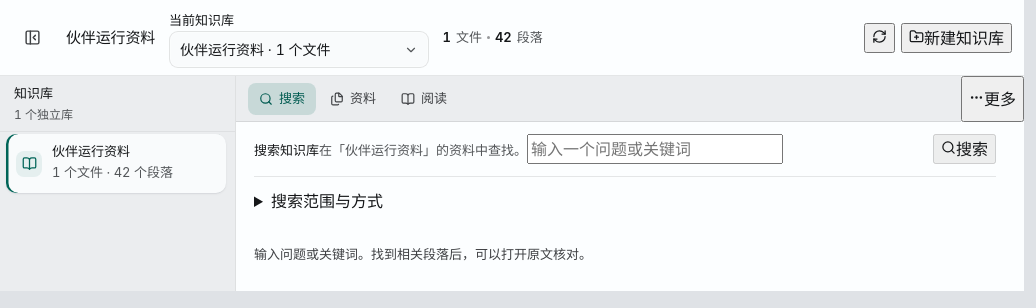
it: document knowledge library › collapses the actual App library index while retaining the current search draft and a library selector
Type "保留检索草稿" into the field labelled "搜索知识库" at point(655, 149), box [527,134,783,164]
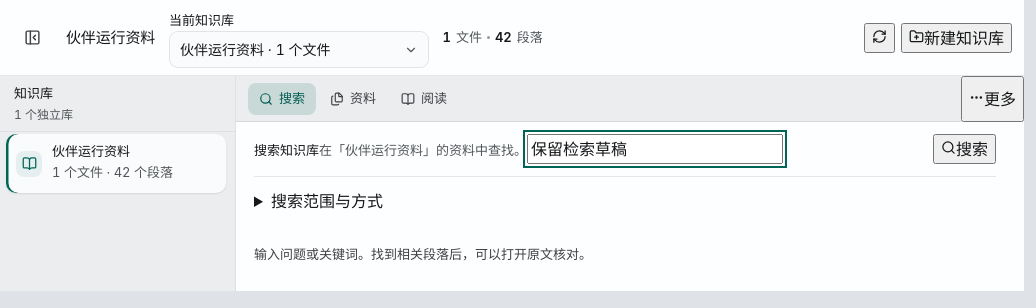
Click the button named "收起知识库目录" at point(32, 38), box [12,18,52,58]
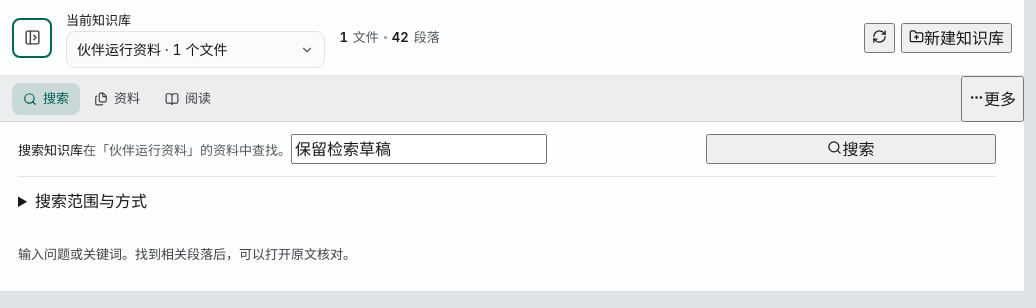
Check: the dropdown named "当前知识库" is shown, box [66,31,325,68]
Check: the element "文档知识库" is gone
Click the button named "展开知识库目录" at point(32, 38), box [12,18,52,58]
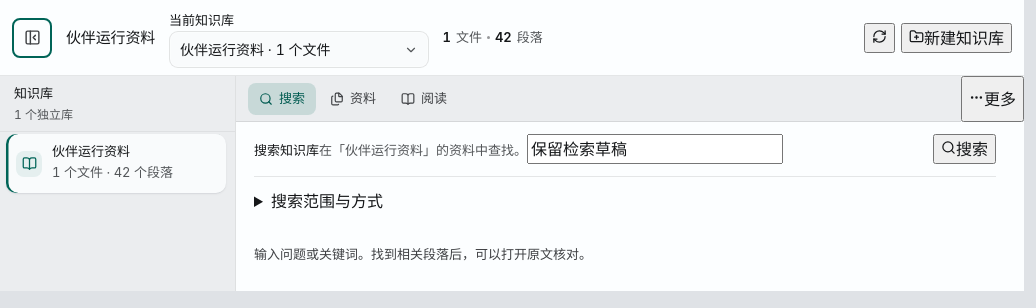
Check: the element named "文档知识库" is shown, box [0,76,236,290]
